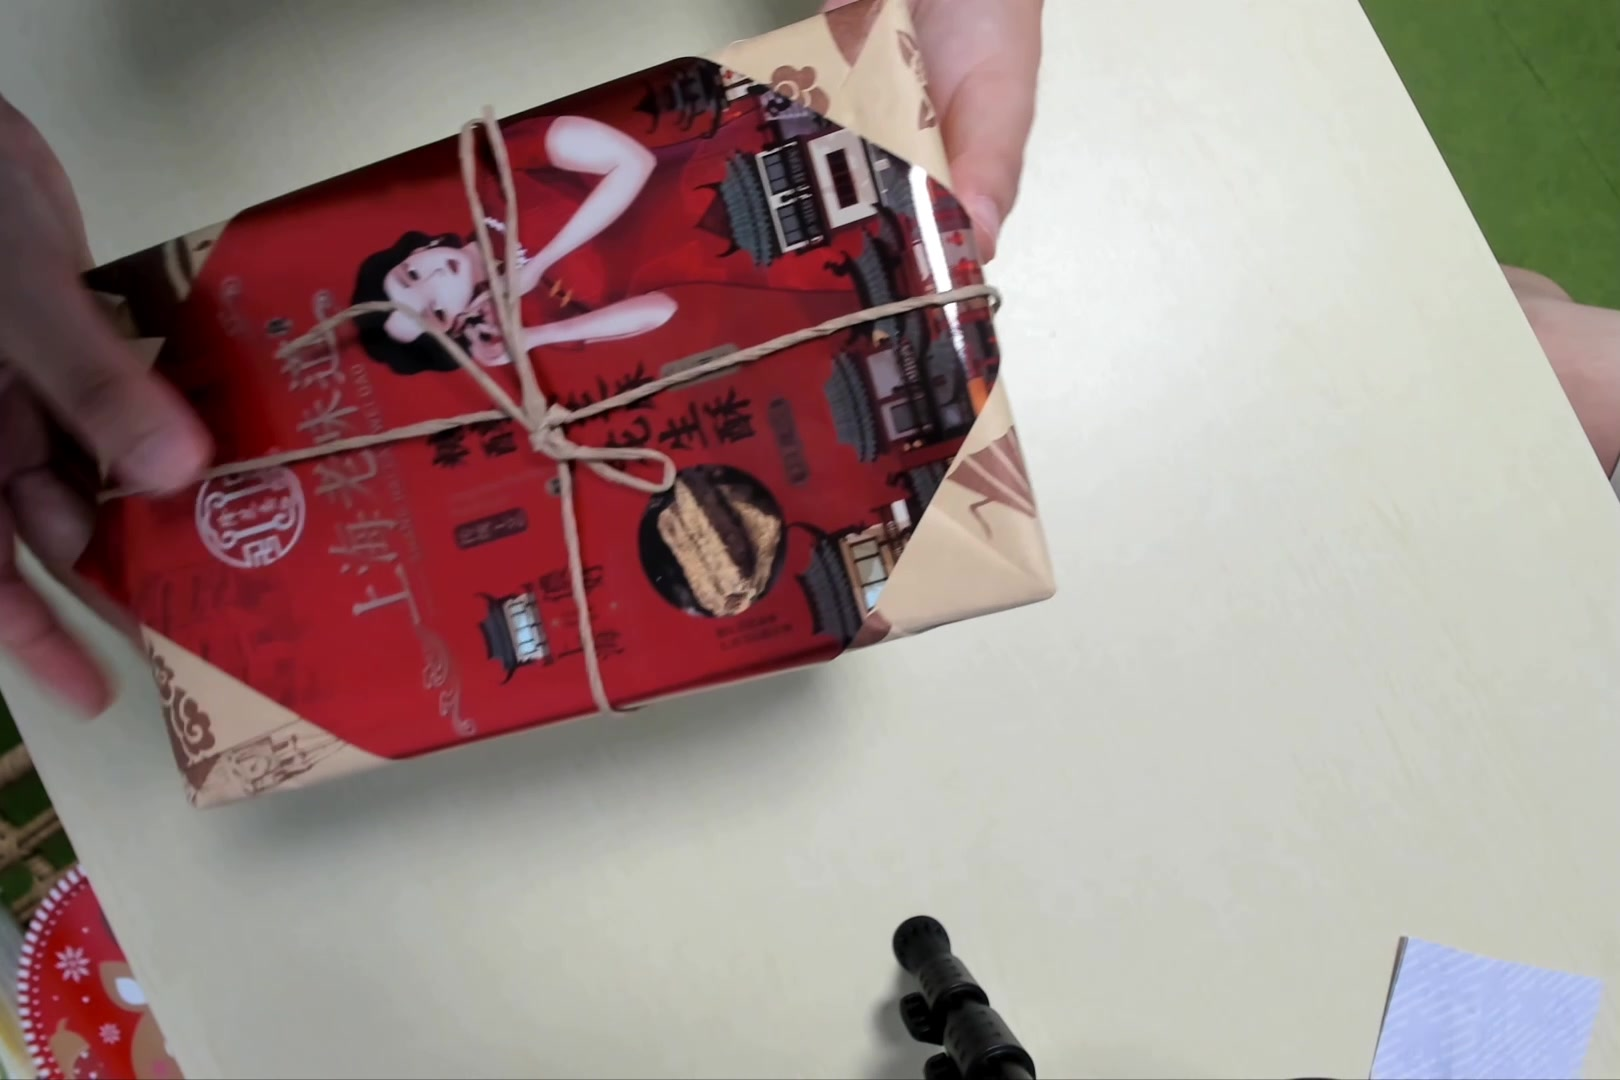BiscuitsCrackersCookies_400-499g_NonHalal_NonHealthy: (48, 8, 1047, 812)
